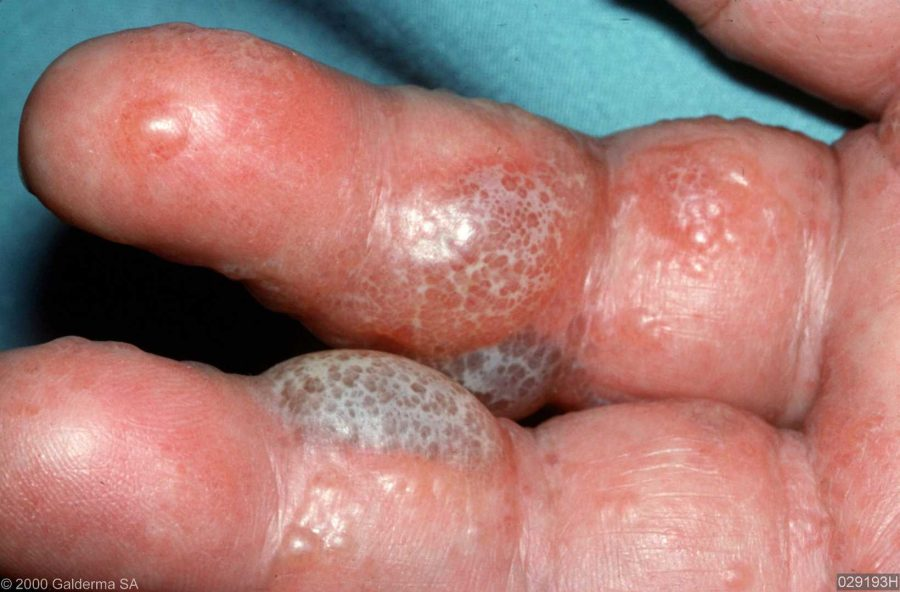Diseased: (94, 67, 649, 535)
